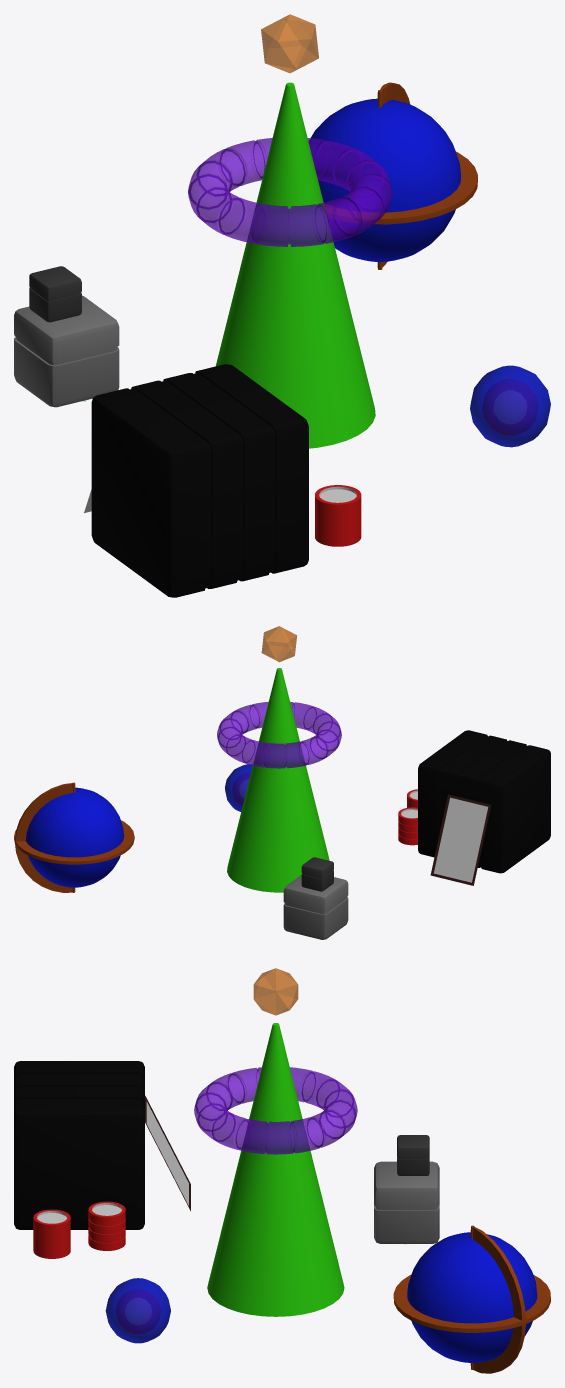
The model's file is mesh_party.obj.
3 views of the same model, one above another, from view 1: azimuth 30°, elevation 25°; view 2: azimuth 150°, elevation 25°; view 3: azimuth 270°, elevation 25° (orthographic). The views are drawn at different scales.
Parts seen in each view (by area): view 1: Cube, Cylinder, Sphere, Torus, Cube.001, Sphere.001, Cylinder.001, Icosphere, Cube.002, Sphere.002; view 2: Cube, Cylinder, Sphere, Torus, Plane, Cube.001, Icosphere, Cube.002, Sphere.001, Cylinder.002; view 3: Cylinder, Cube, Sphere, Torus, Cube.001, Sphere.001, Cylinder.001, Cylinder.002, Icosphere, Cube.002, Plane, Sphere.002.
Part boxes in pixels (bbox=[...]): Cube: bbox=[91, 364, 308, 597]; Cylinder: bbox=[216, 82, 375, 448]; Sphere: bbox=[309, 82, 477, 269]; Torus: bbox=[188, 138, 391, 246]; Cube.001: bbox=[14, 295, 119, 407]; Sphere.001: bbox=[470, 365, 550, 447]; Cylinder.001: bbox=[315, 485, 361, 546]; Icosphere: bbox=[261, 14, 318, 73]; Cube.002: bbox=[29, 266, 81, 322]; Sphere.002: bbox=[482, 379, 537, 435]; Cube: bbox=[418, 730, 550, 873]; Cylinder: bbox=[227, 668, 329, 892]; Sphere: bbox=[14, 782, 134, 892]; Torus: bbox=[217, 701, 341, 768]; Plane: bbox=[430, 794, 491, 885]; Cube.001: bbox=[283, 875, 348, 939]; Icosphere: bbox=[261, 626, 296, 662]; Cube.002: bbox=[301, 857, 333, 891]; Sphere.001: bbox=[225, 764, 252, 811]; Cylinder.002: bbox=[398, 807, 417, 845]; Cylinder: bbox=[207, 1023, 344, 1316]; Cube: bbox=[14, 1061, 144, 1229]; Sphere: bbox=[393, 1225, 550, 1373]; Torus: bbox=[194, 1067, 357, 1154]; Cube.001: bbox=[374, 1161, 439, 1243]; Sphere.001: bbox=[105, 1278, 170, 1343]; Cylinder.001: bbox=[33, 1209, 70, 1258]; Cylinder.002: bbox=[88, 1201, 125, 1250]; Icosphere: bbox=[253, 968, 298, 1015]; Cube.002: bbox=[397, 1135, 429, 1175]; Plane: bbox=[145, 1095, 190, 1211]; Sphere.002: bbox=[116, 1289, 160, 1333].
Size of the model in its own units: 8.2 by 5.39 by 8.2.
